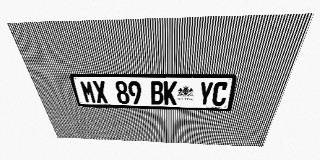8: (114, 81, 130, 104)
9: (127, 81, 143, 104)
B: (150, 81, 164, 105)
C: (211, 82, 229, 106)
K: (164, 81, 177, 105)
M: (79, 81, 97, 103)
X: (92, 81, 109, 103)
Y: (198, 82, 214, 106)
